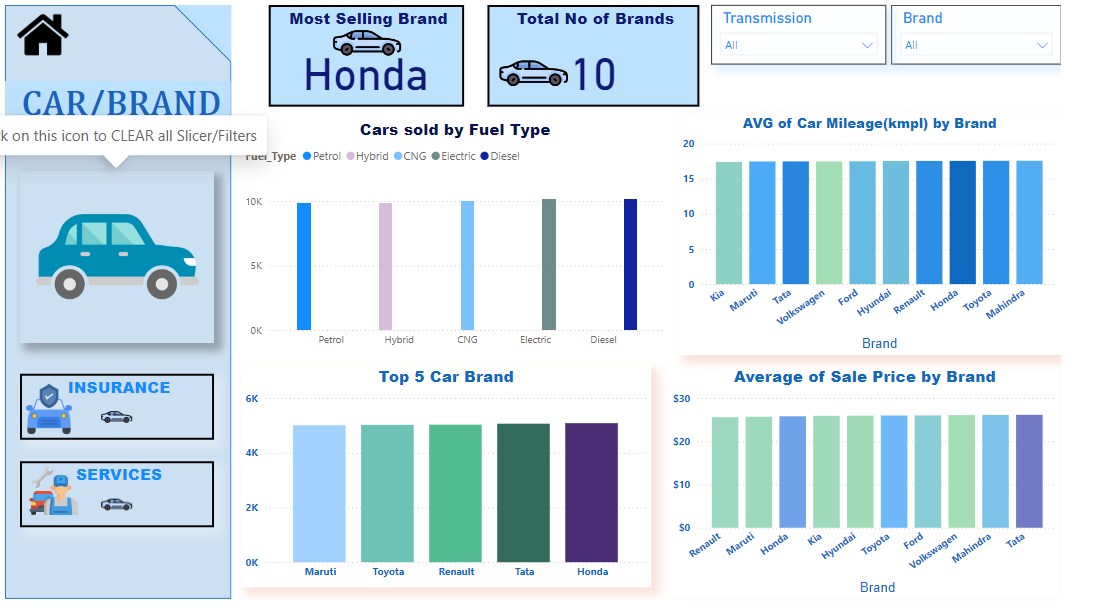

The dashboard page shown, as its layout file describes it:
{"tool":"powerbi","page":{"name":"CAR/BRAND","canvas":[1280,720],"ordinal":2},"visuals":[{"type":"clusteredColumnChart","title":"Cars sold by Fuel Type","fields":{"Y":["CountNonNull(public cars_master_data_sql.Car_ID)"],"Category":["public cars_master_data_sql.Fuel_Type"],"Series":["public cars_master_data_sql.Fuel_Type"]},"box":[286.2,136.9,518.5,287.7],"z":0},{"type":"clusteredColumnChart","title":"Average of Sale Price by Brand","fields":{"Category":["public cars_master_data_sql.Brand"],"Y":["Avg(public cars_master_data_sql.Sale_Price_Lakh)"]},"box":[804.6,436.9,475.4,283.1],"z":1000},{"type":"card","title":"Total No of Brands","fields":{"Values":["Count(public cars_master_data_sql.Brand)"]},"box":[584.6,0,256.9,123.1],"z":2000},{"type":"clusteredColumnChart","title":"AVG of Car Mileage(kmpl) by Brand","fields":{"Category":["public cars_master_data_sql.Brand"],"Y":["Avg(public cars_master_data_sql.Mileage_kmpl)"]},"box":[816.9,132.3,463.1,292.3],"z":3000},{"type":"clusteredColumnChart","title":"Top 5 Car Brand","fields":{"Category":["public cars_master_data_sql.Brand"],"Y":["CountNonNull(public cars_master_data_sql.Car_ID)"]},"box":[286.2,436.9,496.9,269.2],"z":4000},{"type":"card","title":"Most Selling Brand","fields":{"Values":["Min(public cars_master_data_sql.Brand)"]},"box":[320,0,236.9,123.1],"z":5000},{"type":"image","box":[369.2,0,138.5,92.3],"z":6000},{"type":"image","box":[571,36.2,139.1,92.8],"z":7000},{"type":"slicer","fields":{"Values":["public cars_master_data_sql.Brand"]},"box":[1073.8,0,206.2,72.3],"z":8000},{"type":"shape","box":[0,0,274.2,719.7],"z":9000},{"type":"slicer","fields":{"Values":["public cars_master_data_sql.Transmission"]},"box":[855.4,0,212.3,72.3],"z":10000},{"type":"image","box":[7.7,0,76.9,72.3],"z":11000},{"type":"image","title":"INSURANCE","box":[18.5,447.7,235.4,80],"z":12000},{"type":"image","title":"SERVICES","box":[18.5,552.3,235.4,80],"z":13000},{"type":"textbox","box":[0,92.3,273.8,72.3],"z":14000},{"type":"image","box":[18.5,552.3,81.5,72.3],"z":16000},{"type":"image","box":[18.5,427.7,70.8,124.6],"z":17000},{"type":"image","box":[18.5,201.5,235.4,207.7],"z":18000}]}

Visuals, with their boxes in screenshot pixels (x1, y1, x2, y2), scaled from the page's 1280x720 canvas onto the 1094x606 screenshot:
"Cars sold by Fuel Type" clusteredColumnChart: [245,115,688,357]
"Average of Sale Price by Brand" clusteredColumnChart: [688,368,1093,605]
"Total No of Brands" card: [500,0,719,104]
"AVG of Car Mileage(kmpl) by Brand" clusteredColumnChart: [698,111,1093,357]
"Top 5 Car Brand" clusteredColumnChart: [245,368,669,594]
"Most Selling Brand" card: [274,0,476,104]
image: [316,0,434,78]
image: [488,30,607,109]
slicer - public cars_master_data_sql.Brand: [918,0,1093,61]
shape: [0,0,234,605]
slicer - public cars_master_data_sql.Transmission: [731,0,913,61]
image: [7,0,72,61]
"INSURANCE" image: [16,377,217,444]
"SERVICES" image: [16,465,217,532]
textbox: [0,78,234,139]
image: [16,465,85,526]
image: [16,360,76,465]
image: [16,170,217,344]
